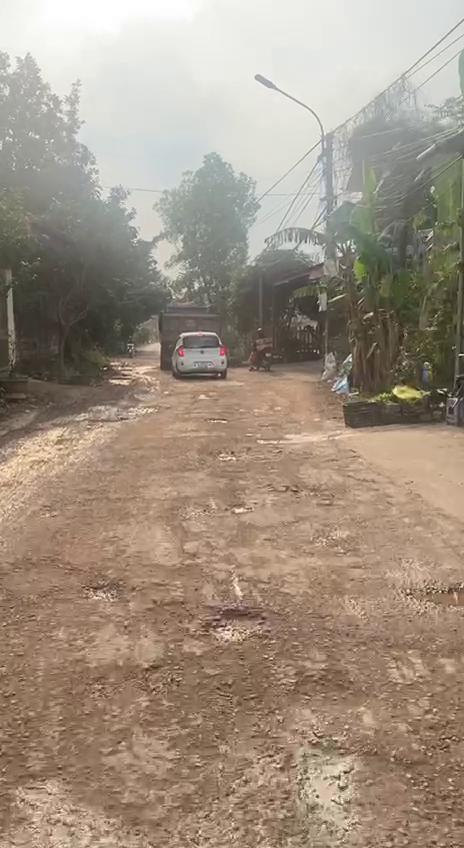pothole: (296, 736, 464, 848), (293, 669, 374, 716), (201, 600, 266, 645), (402, 574, 464, 610), (146, 602, 196, 642), (78, 574, 130, 608), (180, 500, 250, 522), (215, 449, 242, 465), (203, 417, 230, 425)
